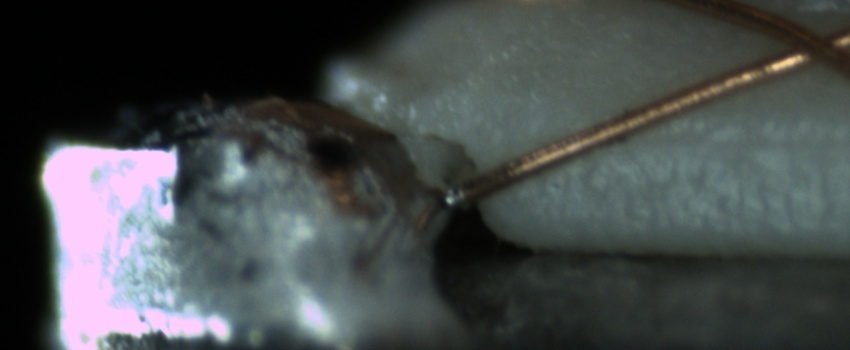CL: (761, 12, 848, 78)
DL: (608, 105, 847, 176)
